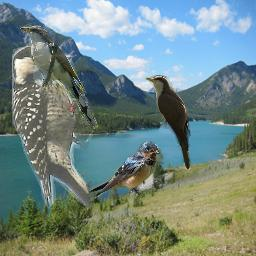Cuckoo: (19, 25, 98, 129), (145, 75, 193, 171)
Swallow: (83, 141, 160, 206)
Woodpecker: (12, 46, 96, 211)
